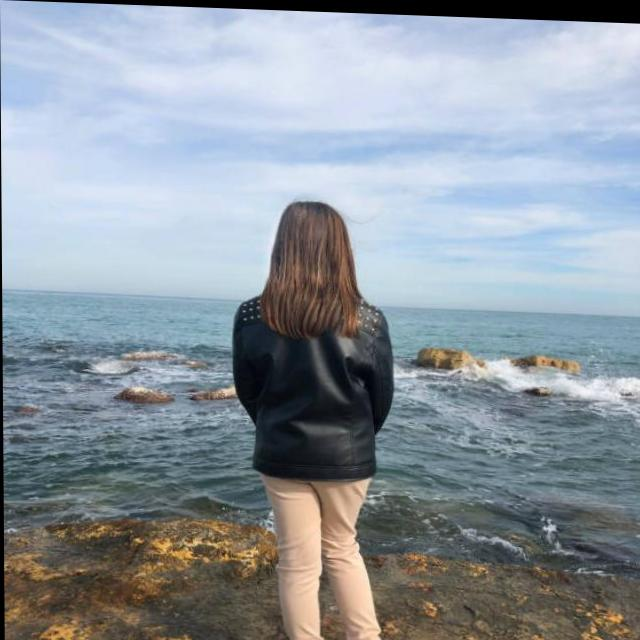no helmet: (250, 177, 378, 312)
